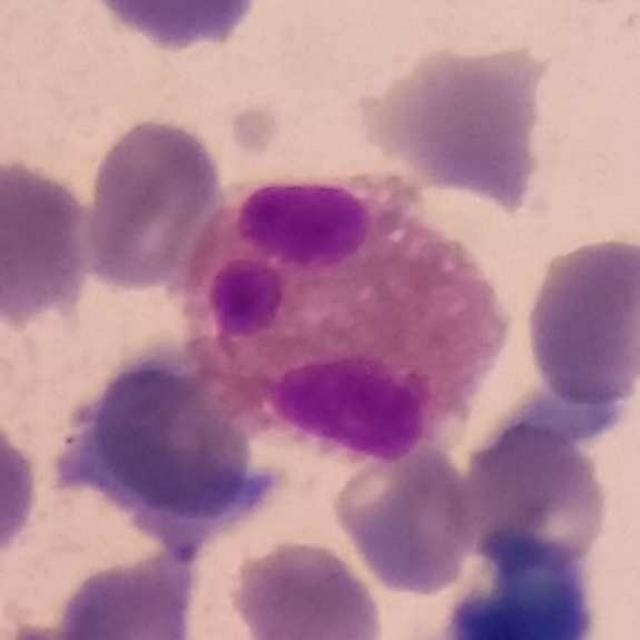Eosinophil: (187, 167, 530, 466)
RBC: (68, 362, 276, 537), (356, 38, 557, 212), (78, 112, 228, 293), (452, 419, 613, 581), (328, 437, 481, 598), (520, 229, 640, 413), (227, 534, 389, 640), (0, 152, 97, 325), (43, 552, 205, 640), (75, 0, 272, 55), (0, 400, 45, 571)
